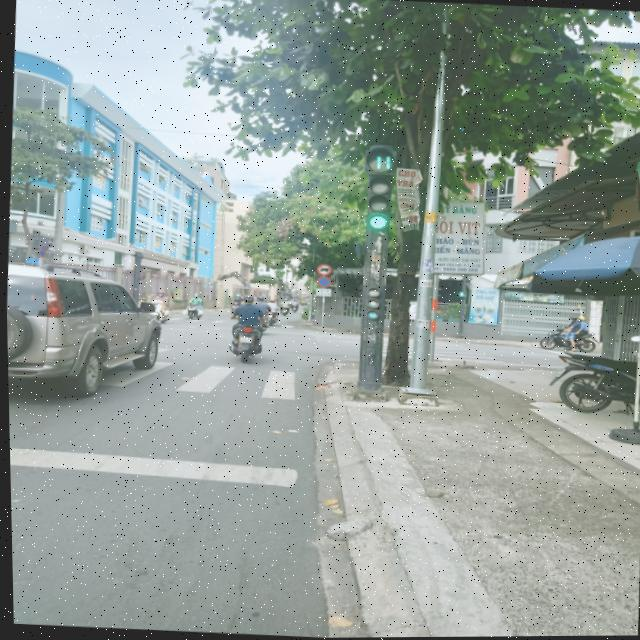Green: (360, 170, 398, 232), (357, 278, 383, 325)
